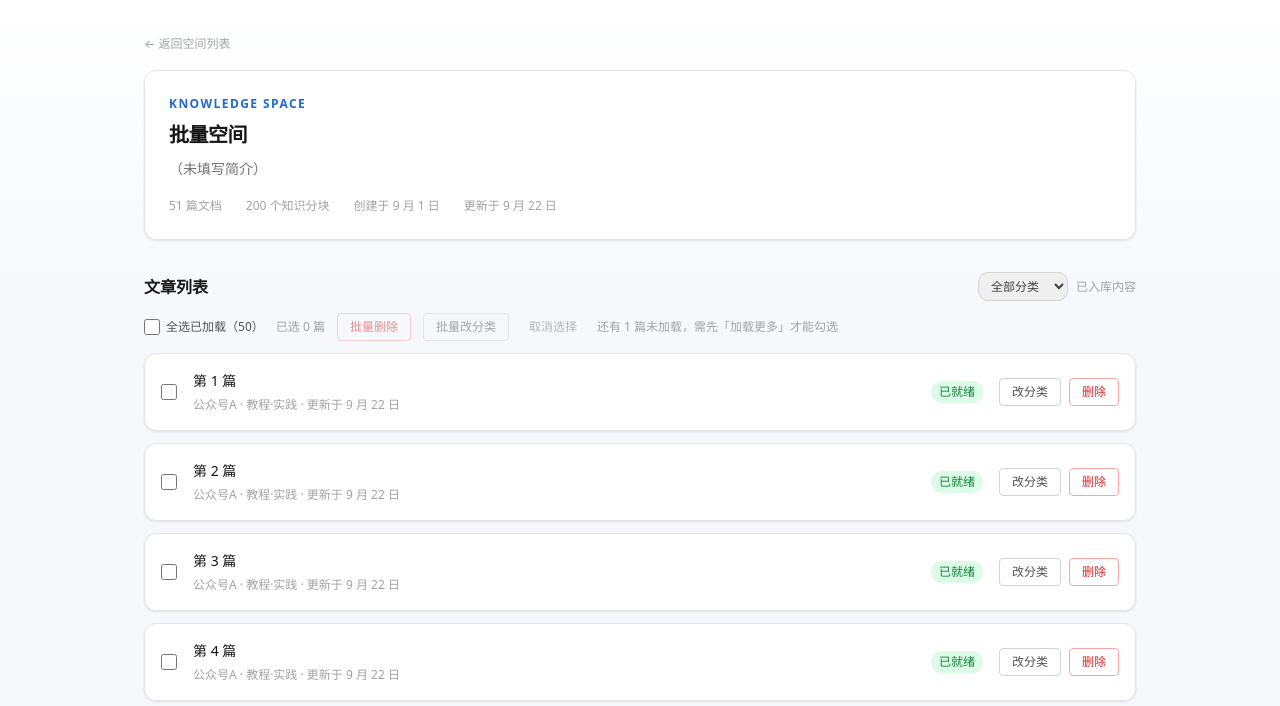
Test: R0.2.6 批量删除：篇级部分成功 › 失败篇逐篇列出中文原因、保留在选中态可重试，成功篇即时退出列表
Click the checkbox labelled "全选已加载" at (152, 327), box top-left (144, 319), bottom-right (160, 335)
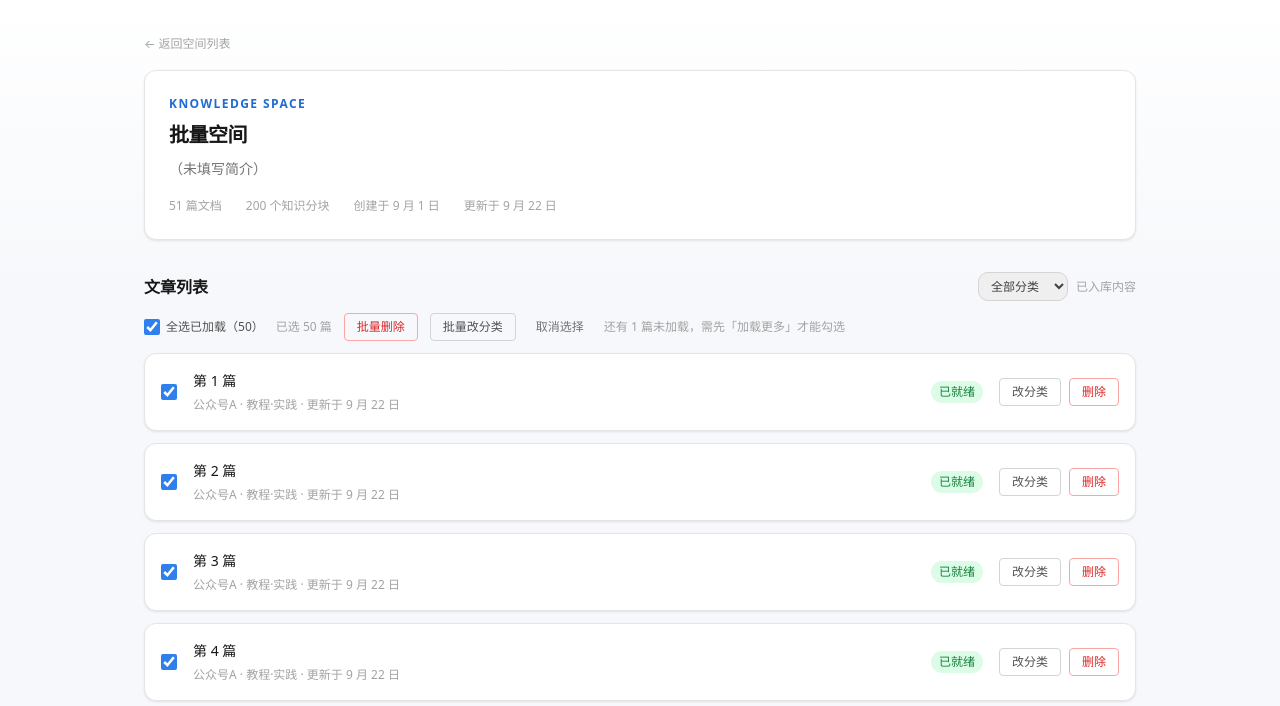
Expected: the text "已选 50 篇" is shown, top-left (276, 318), bottom-right (332, 336)
Click the button "批量删除" at (381, 327), box top-left (344, 313), bottom-right (418, 341)
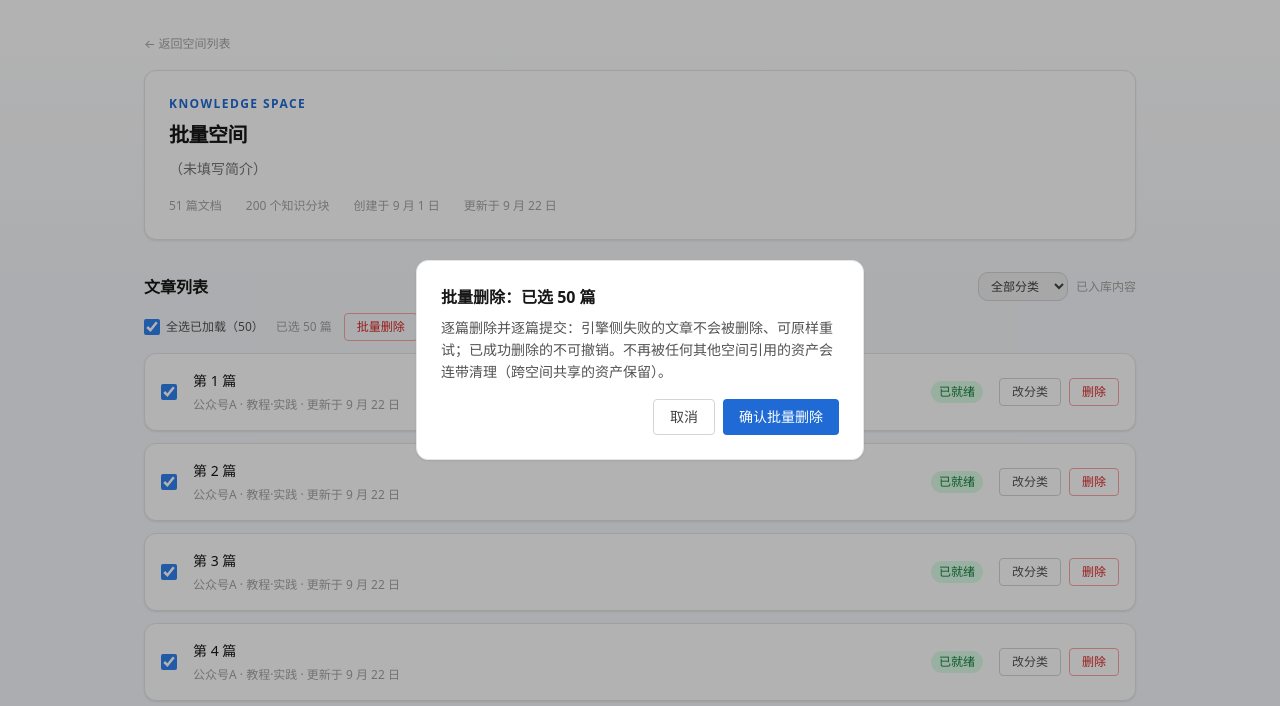
Click the button "确认批量删除" at (781, 417), box top-left (723, 399), bottom-right (839, 435)
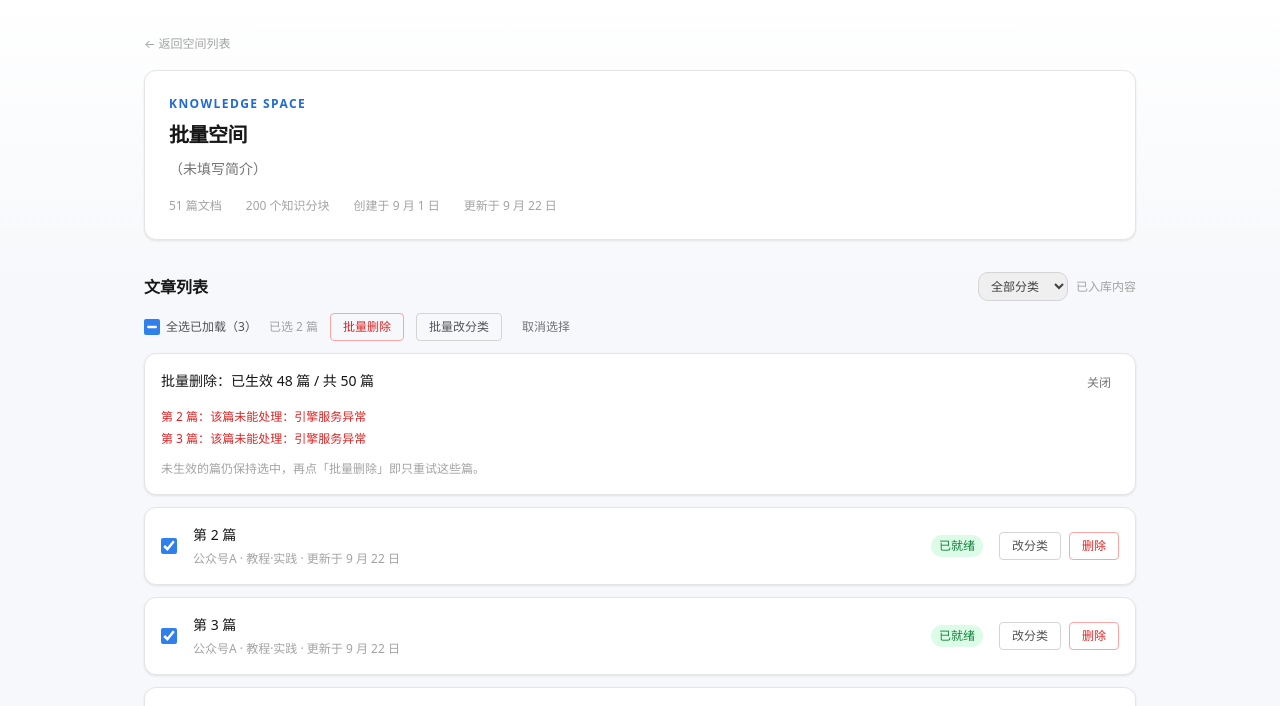
Expected: the text "批量删除：已生效 48 篇 / 共 50 篇" is shown, top-left (161, 371), bottom-right (374, 390)
Expected: the list item "第 2 篇：该篇未能处理：引擎服务异常" is shown, top-left (161, 408), bottom-right (366, 425)
Expected: the list item "第 3 篇：该篇未能处理：引擎服务异常" is shown, top-left (161, 430), bottom-right (366, 447)
Click the button "批量删除" at (367, 327), box top-left (330, 313), bottom-right (404, 341)
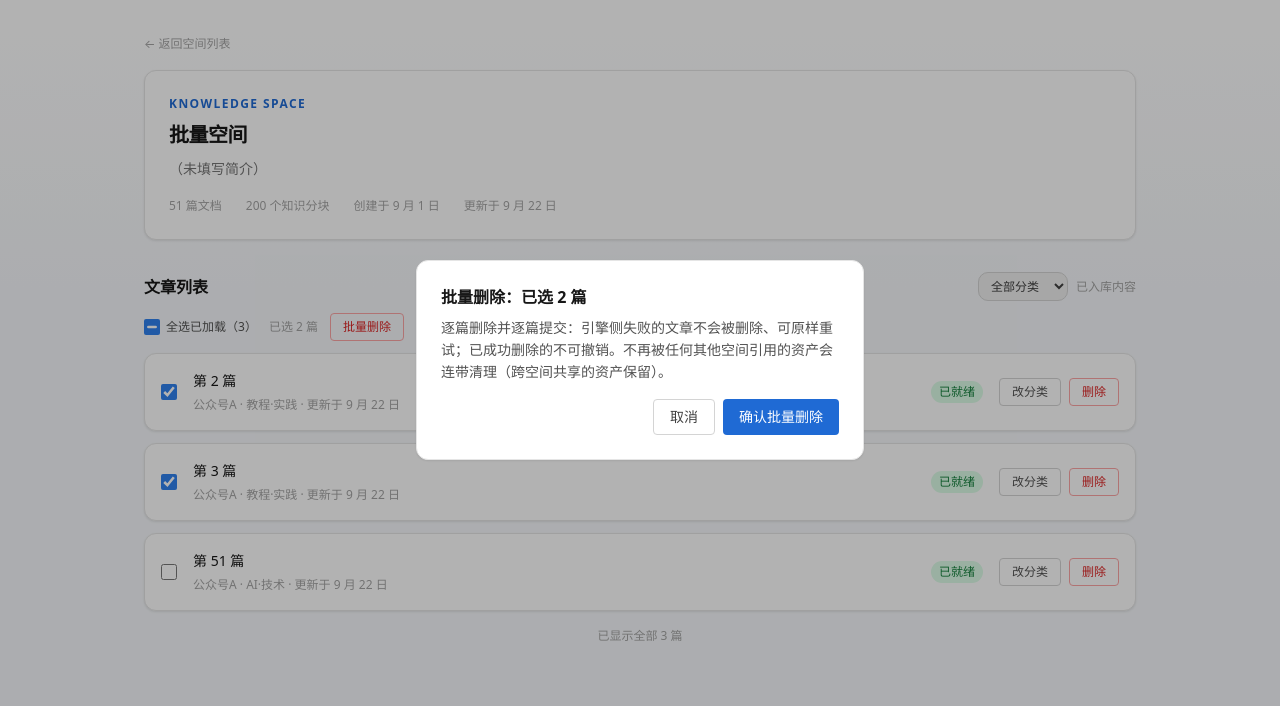
Click the button "确认批量删除" at (781, 417), box top-left (723, 399), bottom-right (839, 435)
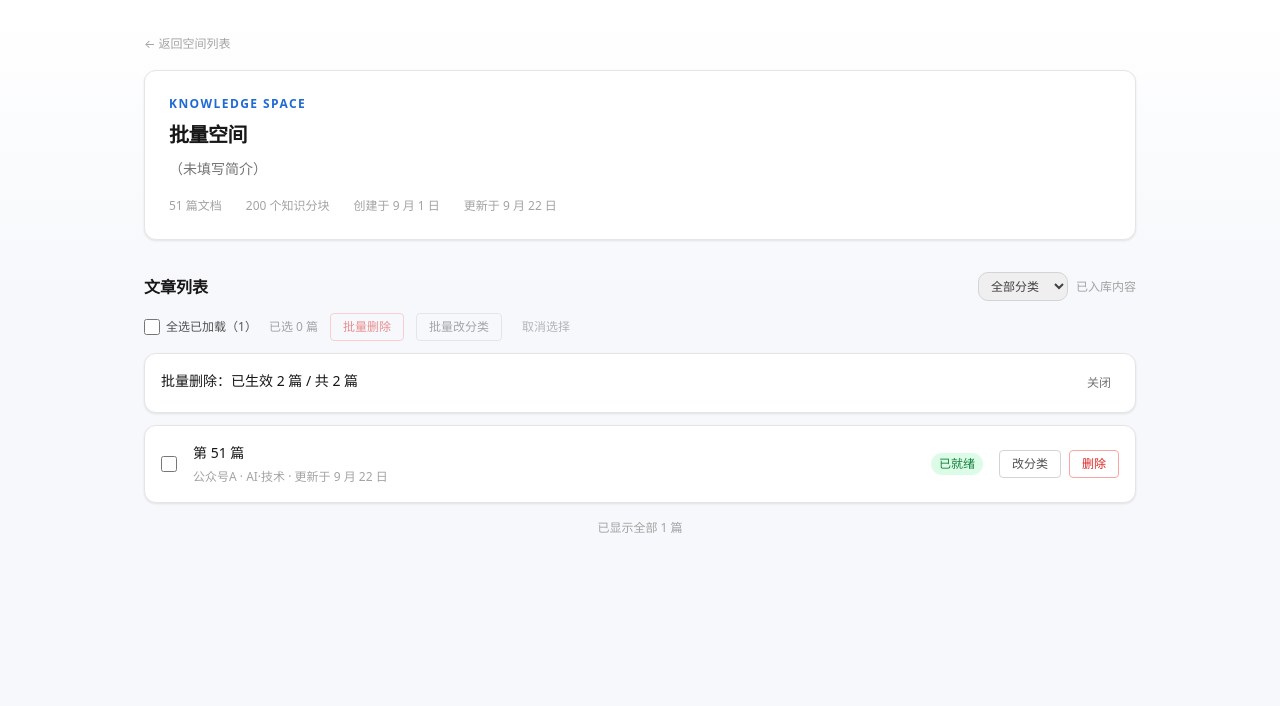
Expected: the text "批量删除：已生效 2 篇 / 共 2 篇" is shown, top-left (161, 371), bottom-right (358, 390)
Expected: the text "已选 0 篇" is shown, top-left (269, 318), bottom-right (318, 336)
